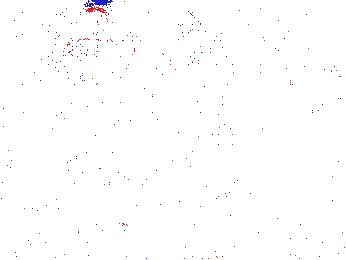moon jellyfish: (200, 35, 287, 125), (115, 1, 214, 66), (61, 38, 141, 114), (283, 1, 346, 81), (3, 12, 72, 76)
